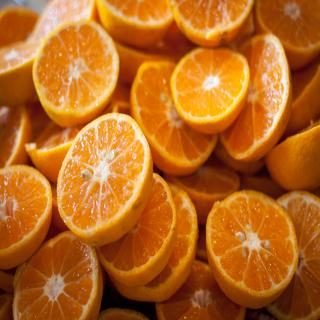Orange: (56, 113, 156, 244), (56, 113, 153, 246), (207, 196, 319, 304), (108, 185, 199, 302), (218, 34, 294, 166), (30, 21, 119, 133), (129, 63, 218, 175), (135, 59, 218, 174), (32, 23, 118, 131), (99, 172, 178, 283), (118, 183, 195, 295), (102, 170, 176, 283), (15, 232, 104, 320), (15, 231, 100, 320), (170, 52, 251, 137), (154, 256, 246, 320), (275, 191, 318, 320), (0, 166, 52, 272), (280, 194, 320, 319), (0, 166, 49, 266), (154, 262, 244, 314), (169, 157, 235, 220), (252, 0, 317, 63), (167, 0, 254, 46), (252, 0, 316, 61), (168, 0, 252, 46), (263, 124, 317, 195), (264, 126, 320, 190), (98, 0, 174, 44), (30, 119, 88, 176), (274, 230, 310, 320), (29, 0, 96, 47), (97, 0, 169, 43), (185, 160, 236, 220), (29, 120, 77, 182), (29, 2, 97, 45), (0, 41, 44, 97), (290, 56, 320, 130), (114, 47, 173, 84), (0, 40, 34, 100), (0, 100, 31, 163), (118, 44, 163, 86), (291, 64, 320, 128), (2, 104, 29, 162), (0, 2, 28, 41), (0, 8, 32, 38), (119, 48, 146, 83), (240, 174, 280, 192), (158, 266, 180, 295), (113, 88, 135, 114)
